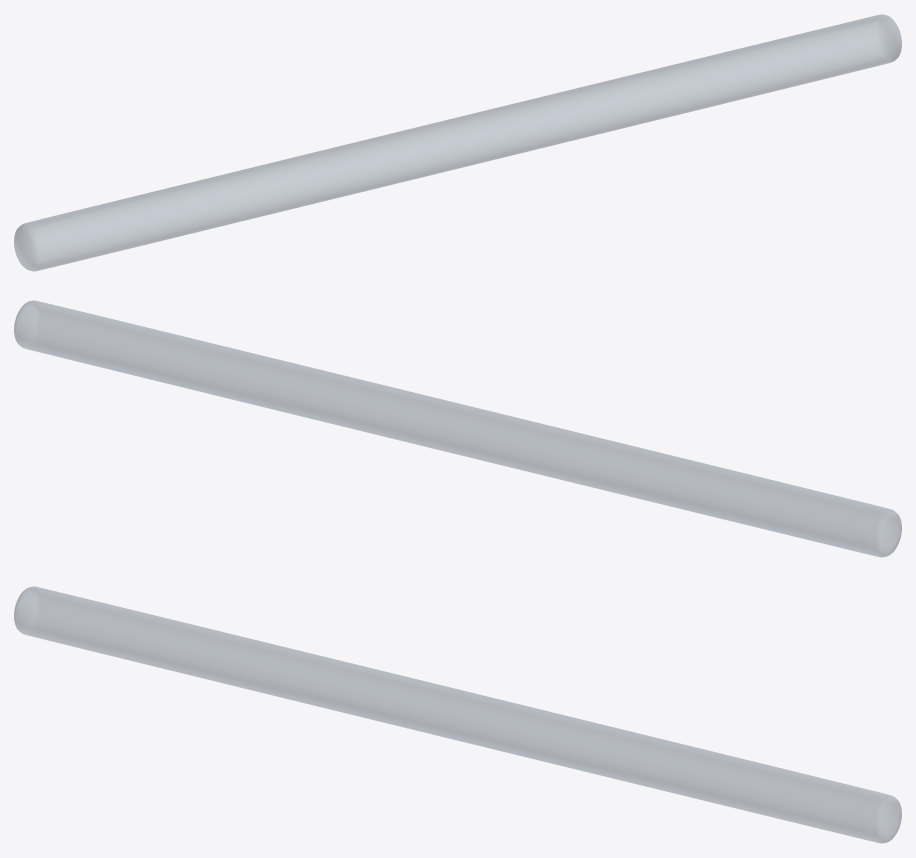
The model's file is glass_rod.glb.
The picture shows the model from 3 angles, top to bottom: view 1: azimuth 30°, elevation 25°; view 2: azimuth 150°, elevation 25°; view 3: azimuth 330°, elevation 25°; orthographic projection.
Visible parts, largest first — view 1: Sphere; view 2: Sphere; view 3: Sphere.
Part boxes in pixels (box(x1,y1,x2,y2)): Sphere: box(14, 14, 901, 271); Sphere: box(14, 300, 901, 557); Sphere: box(14, 586, 901, 843).
Size of the model in its own units: 0.2008 by 0.00996 by 0.00993.
